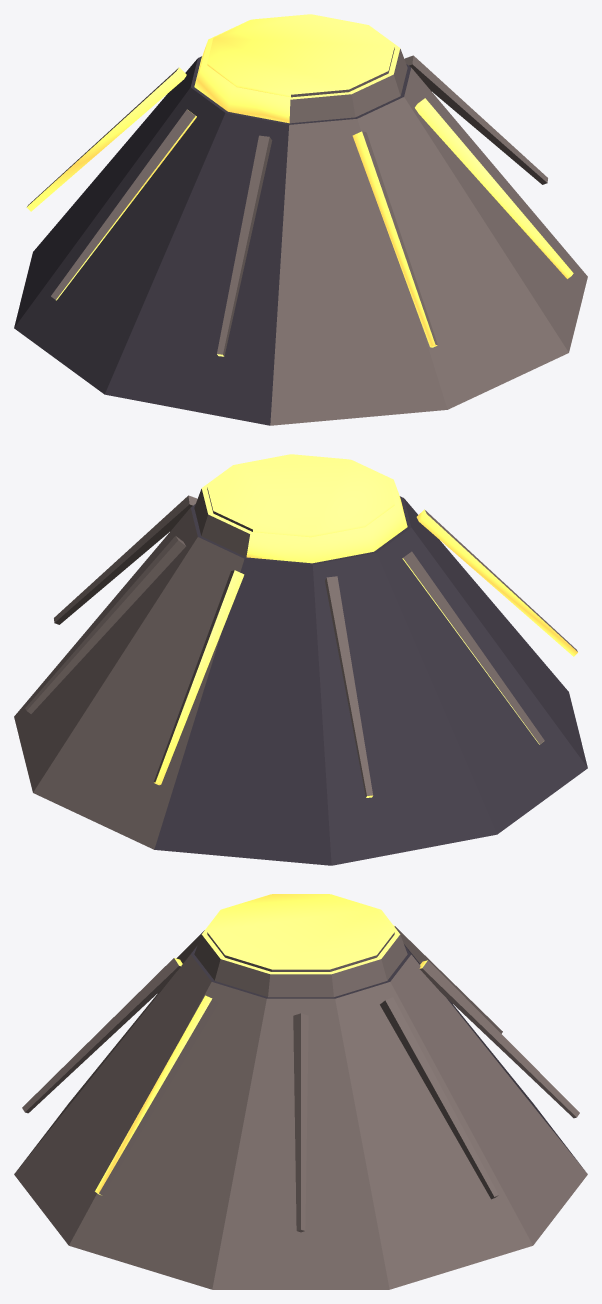
Rendered from vent_cone.glb.
3 renders of one model, top to bottom at view 1: azimuth 30°, elevation 25°; view 2: azimuth 150°, elevation 25°; view 3: azimuth 270°, elevation 25°, orthographic. The views are drawn at different scales.
Visible parts, largest first — view 1: Vent_Cone; view 2: Vent_Cone; view 3: Vent_Cone.
Boxes of the visible parts, x1=… form: Vent_Cone: x1=14, y1=14, x2=587, y2=425; Vent_Cone: x1=14, y1=454, x2=587, y2=865; Vent_Cone: x1=14, y1=894, x2=587, y2=1289.
Size of the model in its own units: 5.06 by 2.43 by 5.2.
